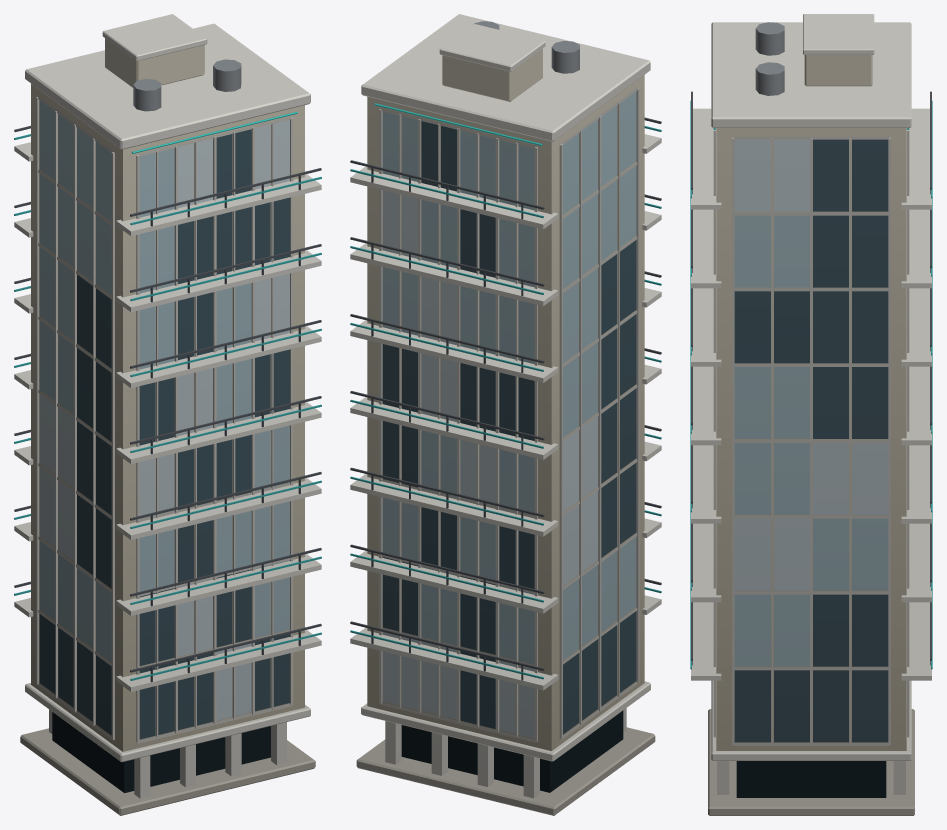
Rendered from waterfront_condo_tower.glb.
3 renders of one model, left to right at view 1: azimuth 30°, elevation 25°; view 2: azimuth 150°, elevation 25°; view 3: azimuth 270°, elevation 25°, orthographic. The views are drawn at different scales.
Visible parts, largest first — view 1: waterfront_condo_tower; view 2: waterfront_condo_tower; view 3: waterfront_condo_tower.
Part boxes in pixels (left/top/right/bottom): waterfront_condo_tower: left=14, top=14, right=321, bottom=815; waterfront_condo_tower: left=350, top=14, right=661, bottom=815; waterfront_condo_tower: left=690, top=14, right=932, bottom=815.
Bounding box in the file's own units: 6.9 × 23.9 × 7.13.
